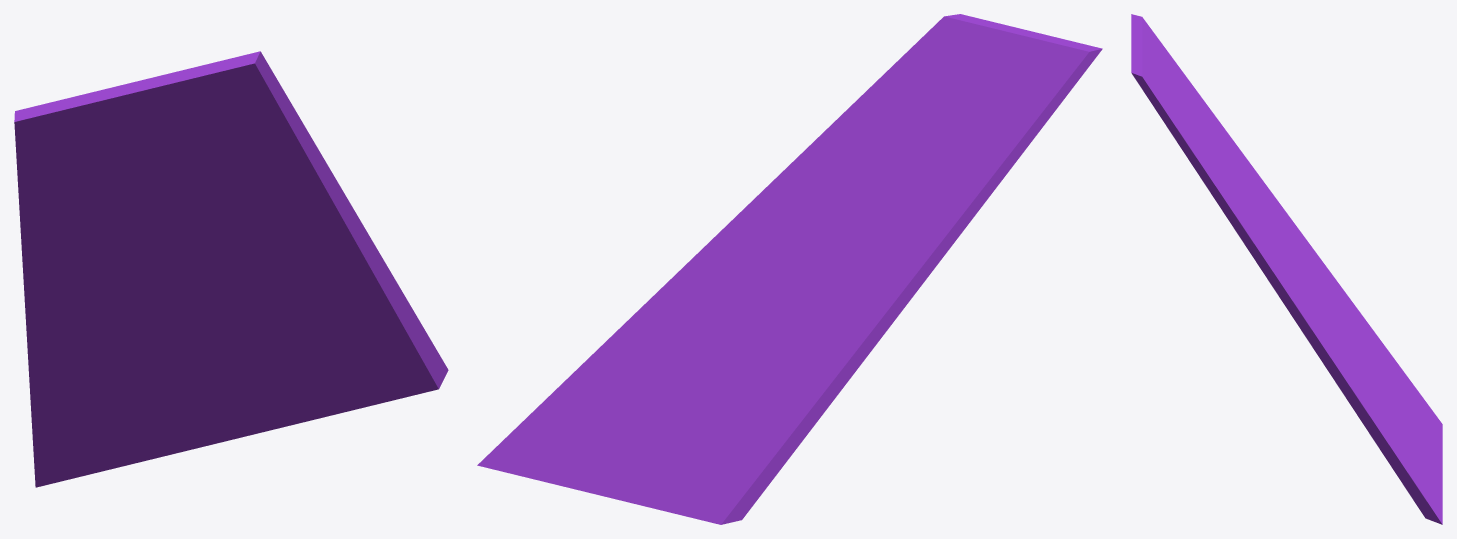
The model's file is Window_110.fbx.
3 views of the same model, side by side, from view 1: azimuth 30°, elevation 25°; view 2: azimuth 150°, elevation 25°; view 3: azimuth 270°, elevation 25° (orthographic). The views are drawn at different scales.
Visible parts, largest first — view 1: Window_110; view 2: Window_110; view 3: Window_110.
Boxes of the visible parts, bbox=[...] form: Window_110: bbox=[14, 51, 448, 487]; Window_110: bbox=[477, 14, 1102, 524]; Window_110: bbox=[1131, 14, 1442, 524].
Bounding box in the file's own units: 1139 × 960 × 824.
